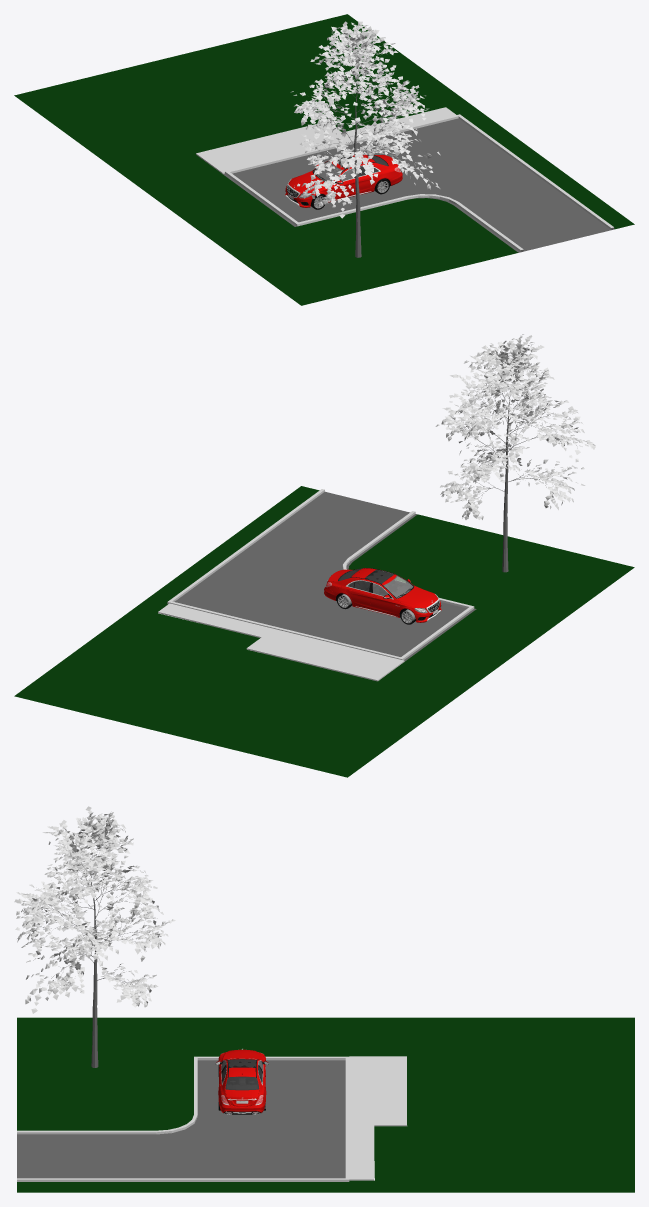
Rendered from Sitte_Option_1.glb.
The picture shows the model from 3 angles, top to bottom: view 1: azimuth 30°, elevation 25°; view 2: azimuth 150°, elevation 25°; view 3: azimuth 270°, elevation 25°; orthographic projection. The views are drawn at different scales.
Visible parts, largest first — view 1: site_1, Sapling_Populus-tremuloides_A_summer.003, Benz.001; view 2: site_1, Sapling_Populus-tremuloides_A_summer.003, Benz.001; view 3: site_1, Sapling_Populus-tremuloides_A_summer.003, Benz.001.
Boxes of the visible parts, bbox=[...] form: site_1: bbox=[14, 14, 634, 305]; Sapling_Populus-tremuloides_A_summer.003: bbox=[290, 21, 440, 257]; Benz.001: bbox=[285, 154, 402, 209]; site_1: bbox=[14, 486, 634, 777]; Sapling_Populus-tremuloides_A_summer.003: bbox=[435, 334, 595, 572]; Benz.001: bbox=[324, 568, 441, 624]; site_1: bbox=[17, 1017, 634, 1192]; Sapling_Populus-tremuloides_A_summer.003: bbox=[14, 806, 175, 1067]; Benz.001: bbox=[215, 1048, 268, 1114].
Size of the model in its own units: 16.54 by 11.02 by 24.78.
